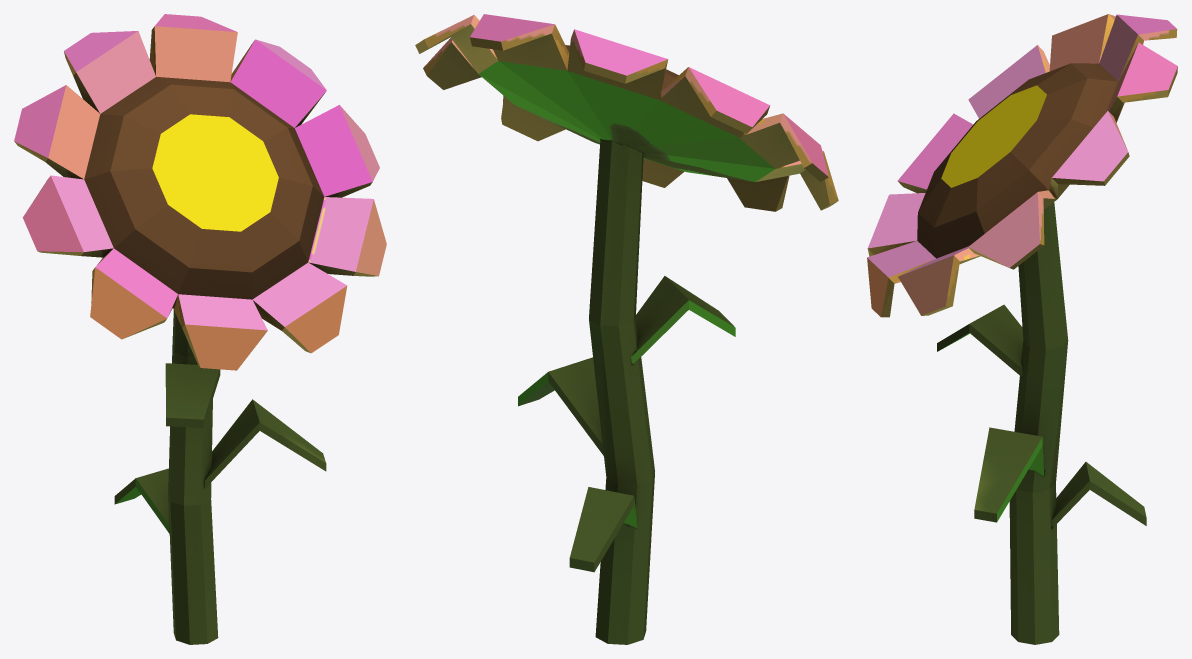
Rendered from sunflower2.gltf.
3 renders of one model, left to right at view 1: azimuth 30°, elevation 25°; view 2: azimuth 150°, elevation 25°; view 3: azimuth 270°, elevation 25°, orthographic. The views are drawn at different scales.
Parts seen in each view (by area): view 1: sunflower; view 2: sunflower; view 3: sunflower.
Boxes of the visible parts, bbox=[...] form: sunflower: bbox=[14, 14, 386, 644]; sunflower: bbox=[415, 14, 838, 644]; sunflower: bbox=[867, 14, 1177, 644].
Bounding box in the file's own units: 0.3645 × 0.5804 × 0.2742.
1 material, 1 textured.
